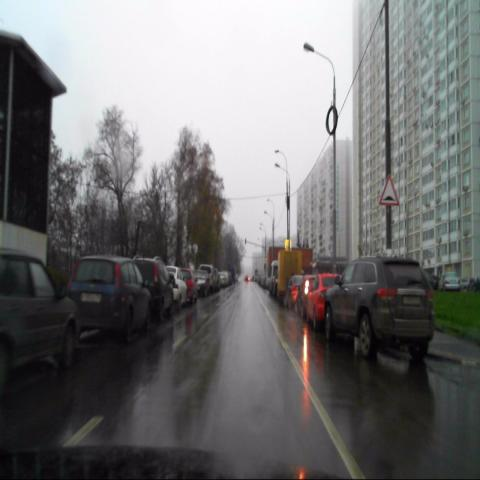1_17: (379, 176, 400, 206)
